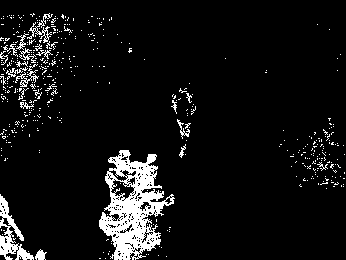person: (171, 84, 195, 158)
